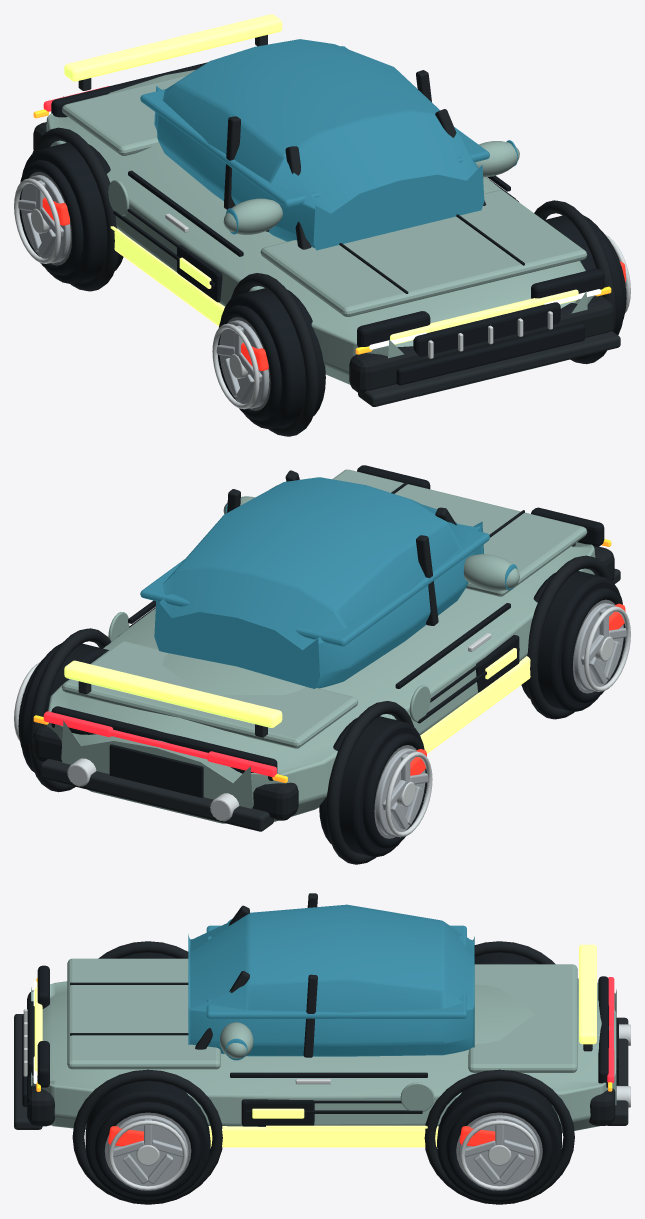
3 views of the same model, one above another, from view 1: azimuth 30°, elevation 25°; view 2: azimuth 150°, elevation 25°; view 3: azimuth 270°, elevation 25° (orthographic). The views are drawn at different scales.
Visible parts, largest first — view 1: continuous smoked glass cabin.007, sculpted one-piece body shell.007, front hood skin.007, left wheel tire.014, rear deck skin.007, rear spoiler blade.007, left wheel tire.015, front bumper fascia.007, front carbon splitter.007, lower front intake surround.007, upper front grille surround.007, left front fender arch bead.007 (+22 smaller); view 2: continuous smoked glass cabin.007, sculpted one-piece body shell.007, rear deck skin.007, front hood skin.007, left wheel tire.015, rear spoiler blade.007, left wheel tire.014, rear diffuser center.007, EV panoramic roof, rear plate shadow recess.007, left rear fender arch bead.007, left front fender arch bead.007 (+23 smaller); view 3: continuous smoked glass cabin.007, sculpted one-piece body shell.007, front hood skin.007, rear deck skin.007, right wheel tire.014, right wheel tire.015, right aerodynamic side sill.007, right rear fender arch bead.007, right front fender arch bead.007, right tire sidewall bead.015, right tire sidewall bead.014, EV panoramic roof (+31 smaller).
Boxes of the visible parts, left/top/right/bottom form: continuous smoked glass cabin.007: left=154, top=39, right=484, bottom=250; sculpted one-piece body shell.007: left=46, top=70, right=595, bottom=396; front hood skin.007: left=260, top=190, right=587, bottom=316; left wheel tire.014: left=220, top=288, right=325, bottom=429; rear deck skin.007: left=61, top=74, right=188, bottom=155; rear spoiler blade.007: left=64, top=14, right=282, bottom=81; left wheel tire.015: left=22, top=143, right=123, bottom=283; front bumper fascia.007: left=349, top=296, right=614, bottom=394; front carbon splitter.007: left=358, top=331, right=620, bottom=406; lower front intake surround.007: left=396, top=323, right=584, bottom=385; upper front grille surround.007: left=413, top=302, right=560, bottom=356; left front fender arch bead.007: left=231, top=273, right=318, bottom=436; continuous smoked glass cabin.007: left=154, top=477, right=483, bottom=688; sculpted one-piece body shell.007: left=46, top=542, right=595, bottom=823; rear deck skin.007: left=61, top=641, right=358, bottom=748; front hood skin.007: left=332, top=469, right=587, bottom=596; left wheel tire.015: left=319, top=716, right=424, bottom=856; rear spoiler blade.007: left=64, top=660, right=282, bottom=727; left wheel tire.014: left=521, top=571, right=622, bottom=711; rear diffuser center.007: left=40, top=759, right=273, bottom=831; EV panoramic roof: left=140, top=529, right=489, bottom=646; rear plate shadow recess.007: left=109, top=744, right=203, bottom=797; left rear fender arch bead.007: left=326, top=701, right=413, bottom=864; left front fender arch bead.007: left=526, top=555, right=612, bottom=719; continuous smoked glass cabin.007: left=188, top=904, right=474, bottom=1056; sculpted one-piece body shell.007: left=31, top=978, right=616, bottom=1133; front hood skin.007: left=67, top=958, right=220, bottom=1069; rear deck skin.007: left=468, top=964, right=577, bottom=1072; right wheel tire.014: left=85, top=1081, right=210, bottom=1202; right wheel tire.015: left=437, top=1081, right=561, bottom=1202; right aerodynamic side sill.007: left=208, top=1126, right=438, bottom=1147; right rear fender arch bead.007: left=424, top=1069, right=574, bottom=1204; right front fender arch bead.007: left=72, top=1069, right=222, bottom=1204; right tire sidewall bead.015: left=446, top=1101, right=552, bottom=1197; right tire sidewall bead.014: left=94, top=1101, right=201, bottom=1197; EV panoramic roof: left=206, top=925, right=466, bottom=1018.
Size of the model in its own units: 2.95 by 1.81 by 4.74.
